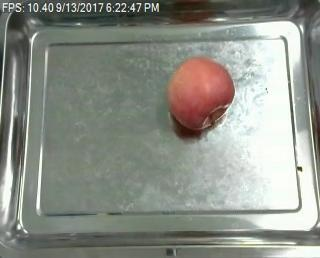apple: (166, 57, 235, 132)
